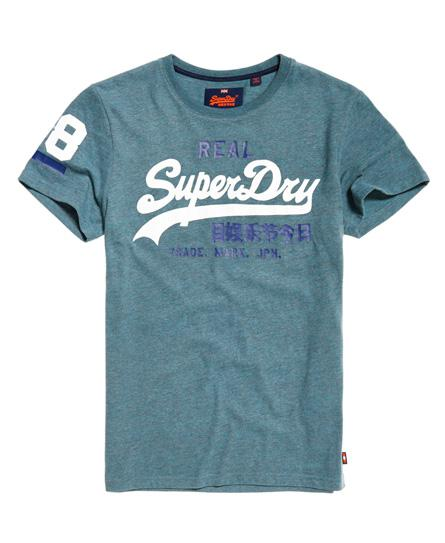teeshirt: (17, 49, 436, 514)
